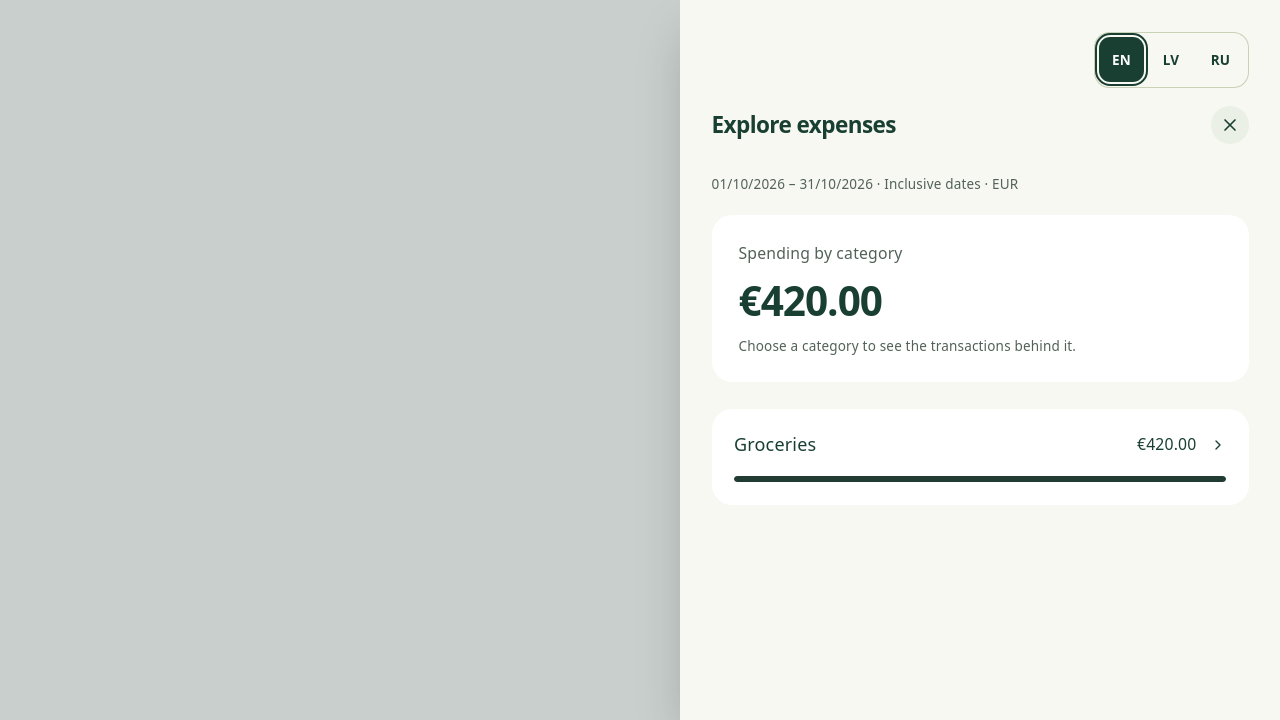
Test: preserves workspace, category and inclusive month when exploring expenses
Click the button "Groceries €420.00".
click(775, 444)  # box [712, 409, 1248, 505]
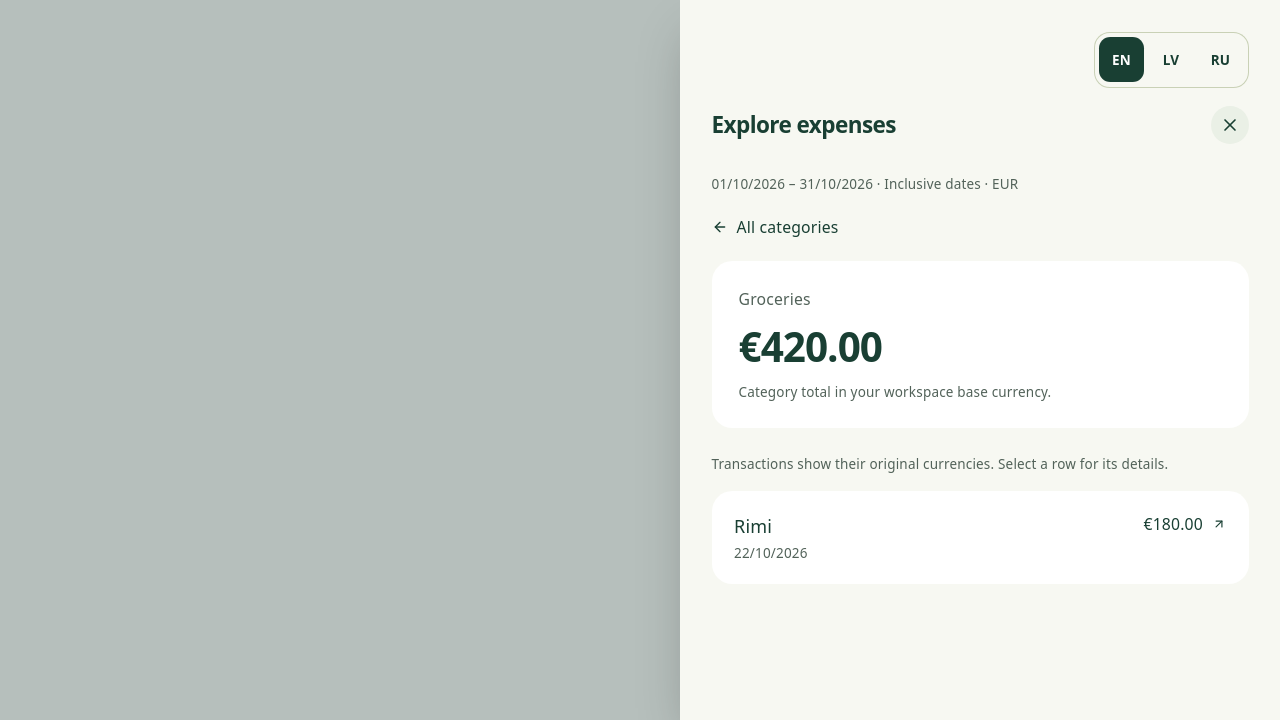
Check: the text "Rimi" is shown, box [734, 514, 772, 538]
